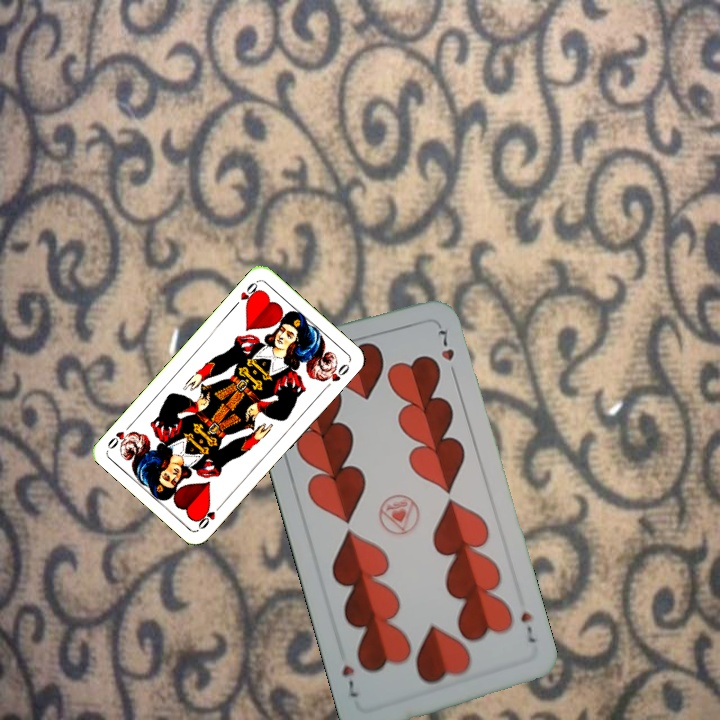H7: (516, 608, 538, 646)
HO: (229, 277, 263, 310), (193, 499, 226, 532)
